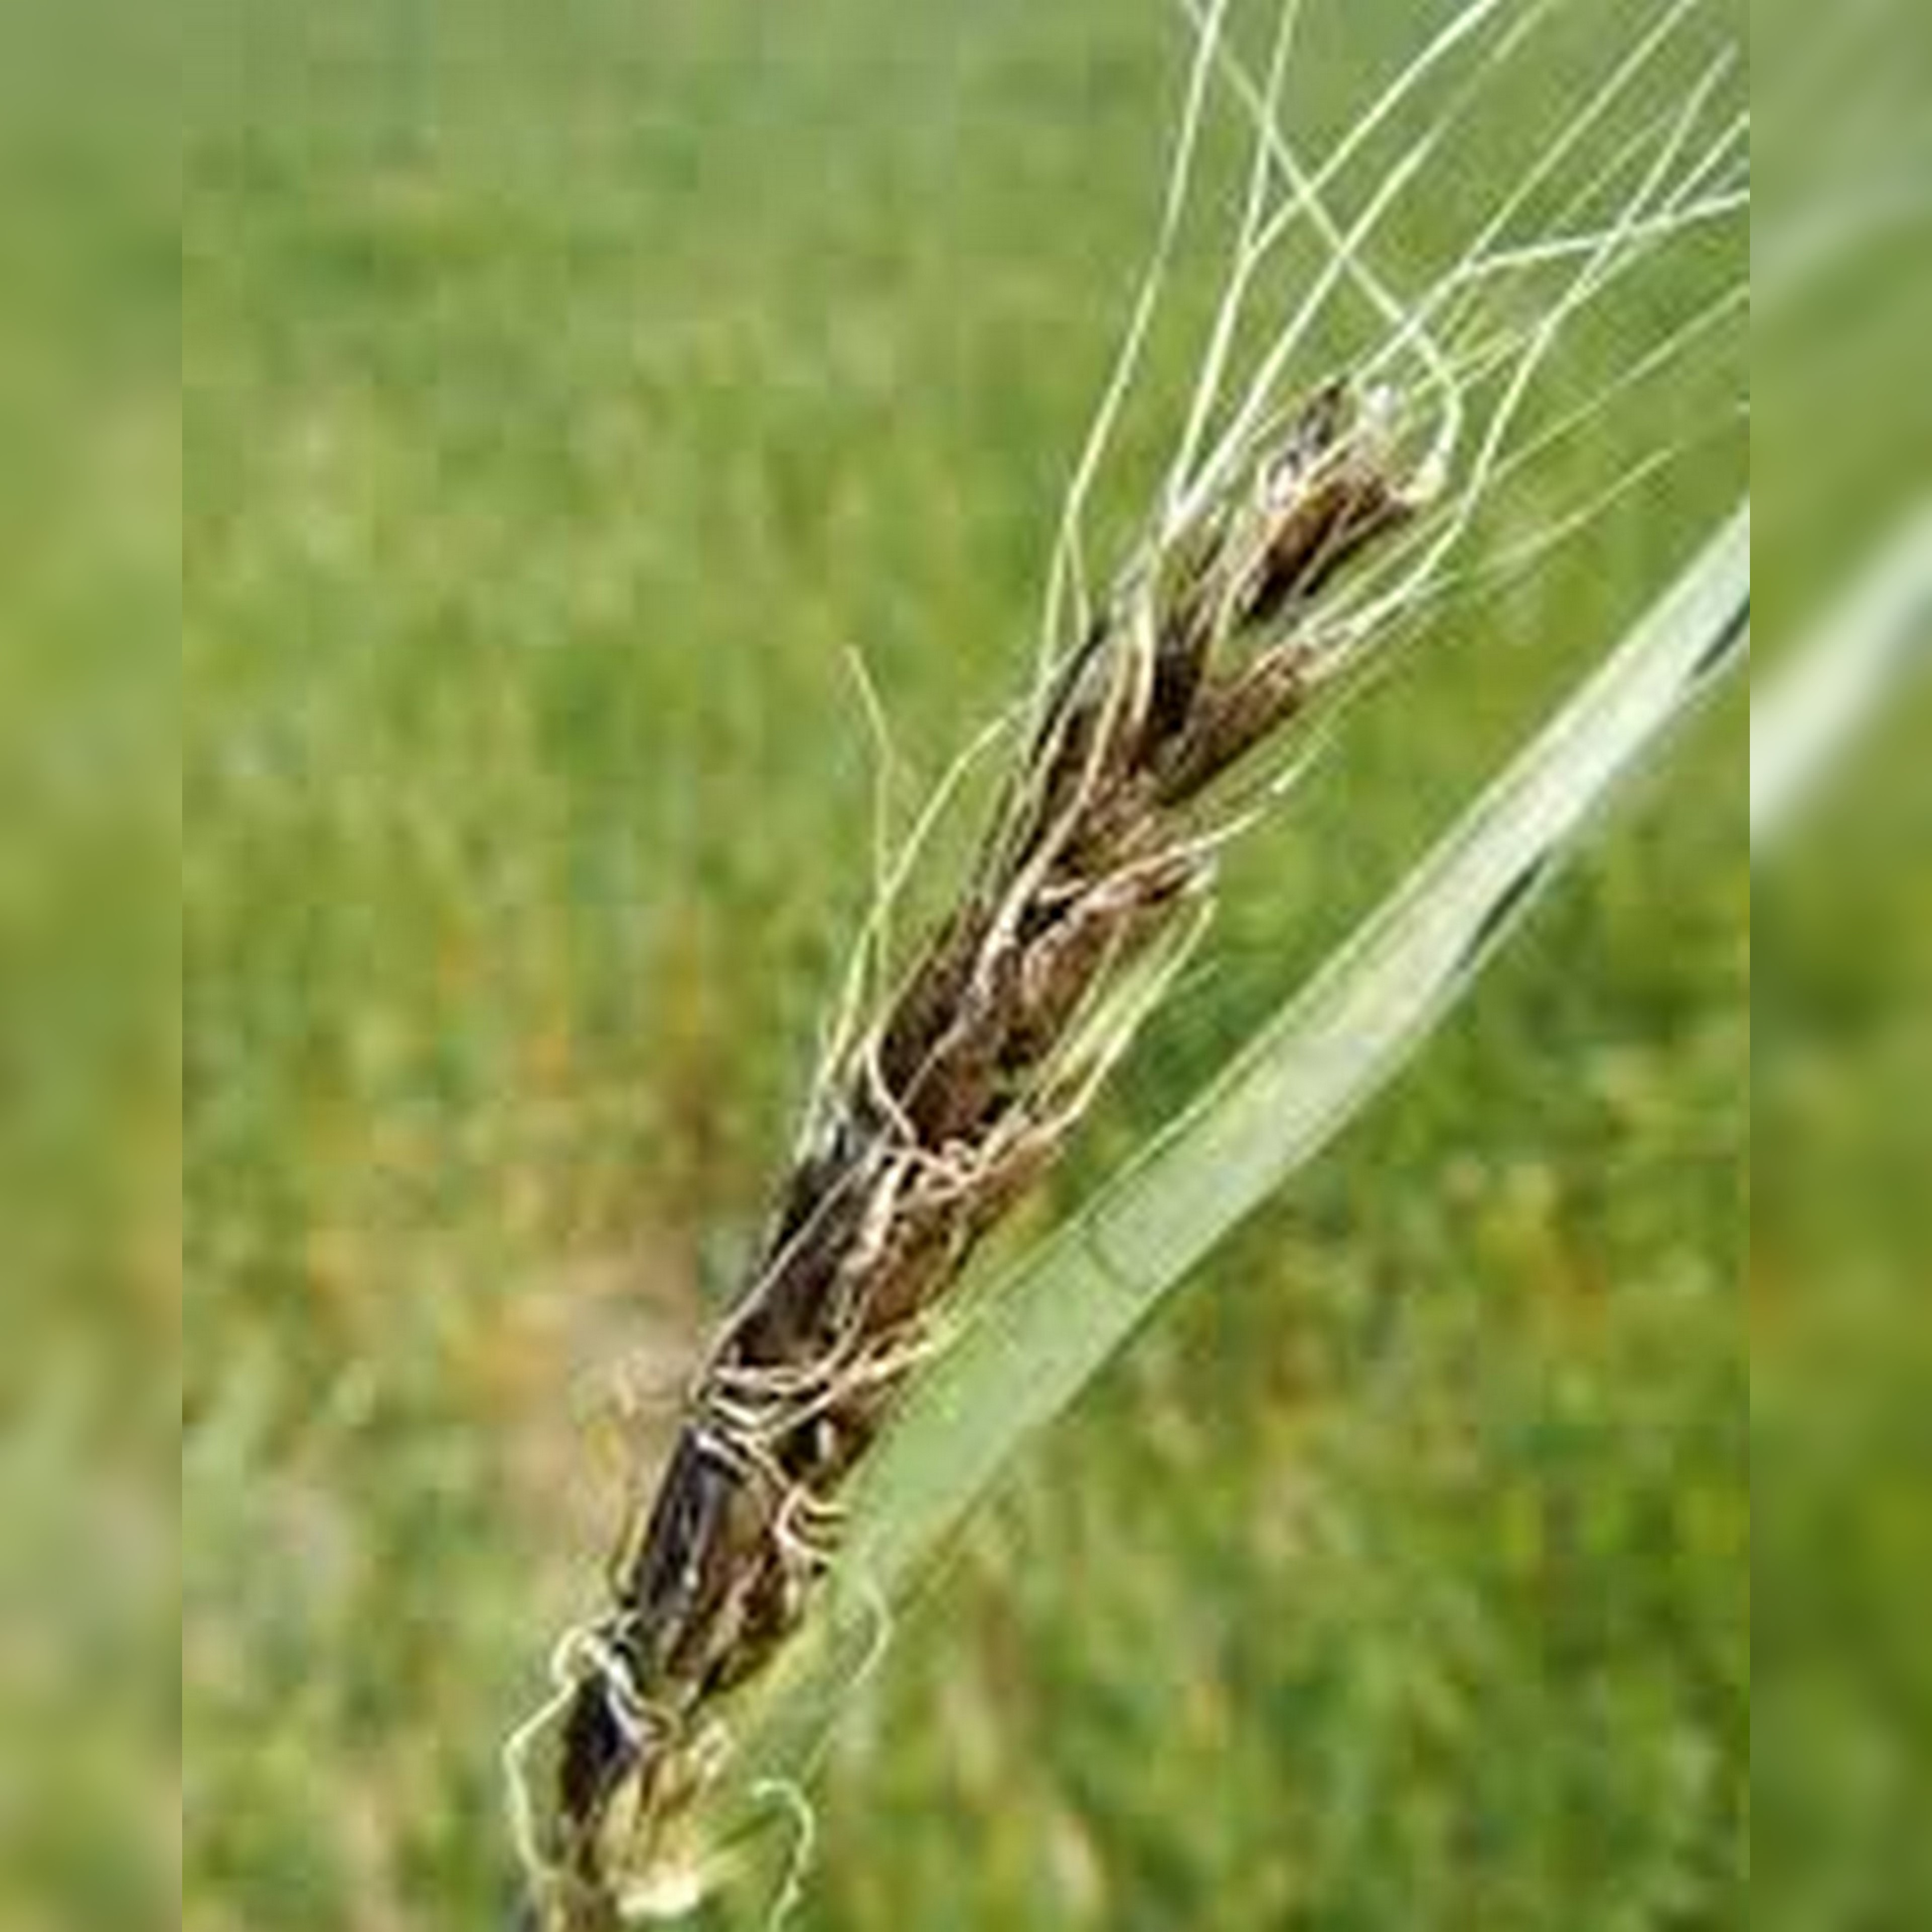Wheat Loose Smut: (510, 396, 1438, 1783)
